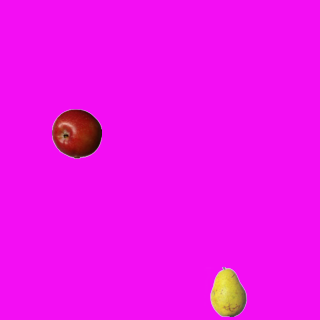Apple Braeburn: (51, 108, 101, 158)
Pear Monster: (203, 266, 253, 316)
